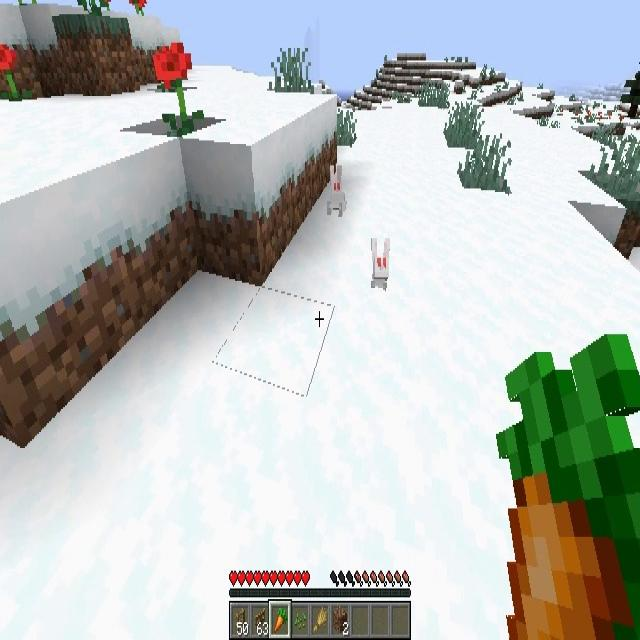flower: (154, 44, 198, 132), (0, 42, 23, 101)
rabbit: (371, 238, 390, 289), (326, 167, 346, 213)
